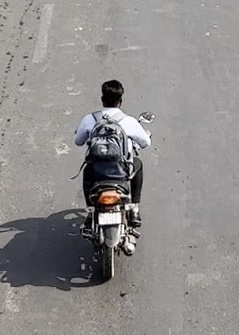BikeWithRider: (69, 76, 158, 285)
NoHelmet: (94, 76, 128, 112)
